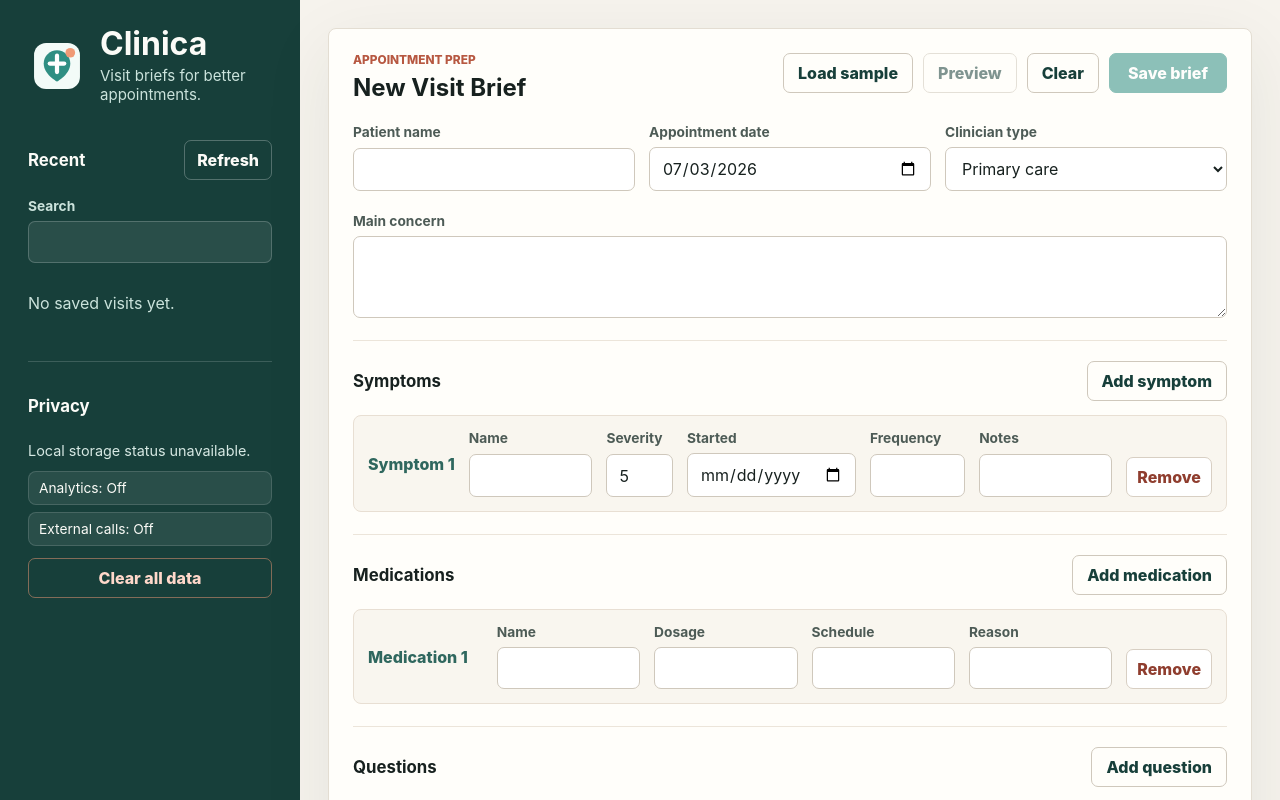
Clinica app › previews a sample visit without saving it
Click the button "Load sample".
click(848, 73)  # box [783,53,913,93]
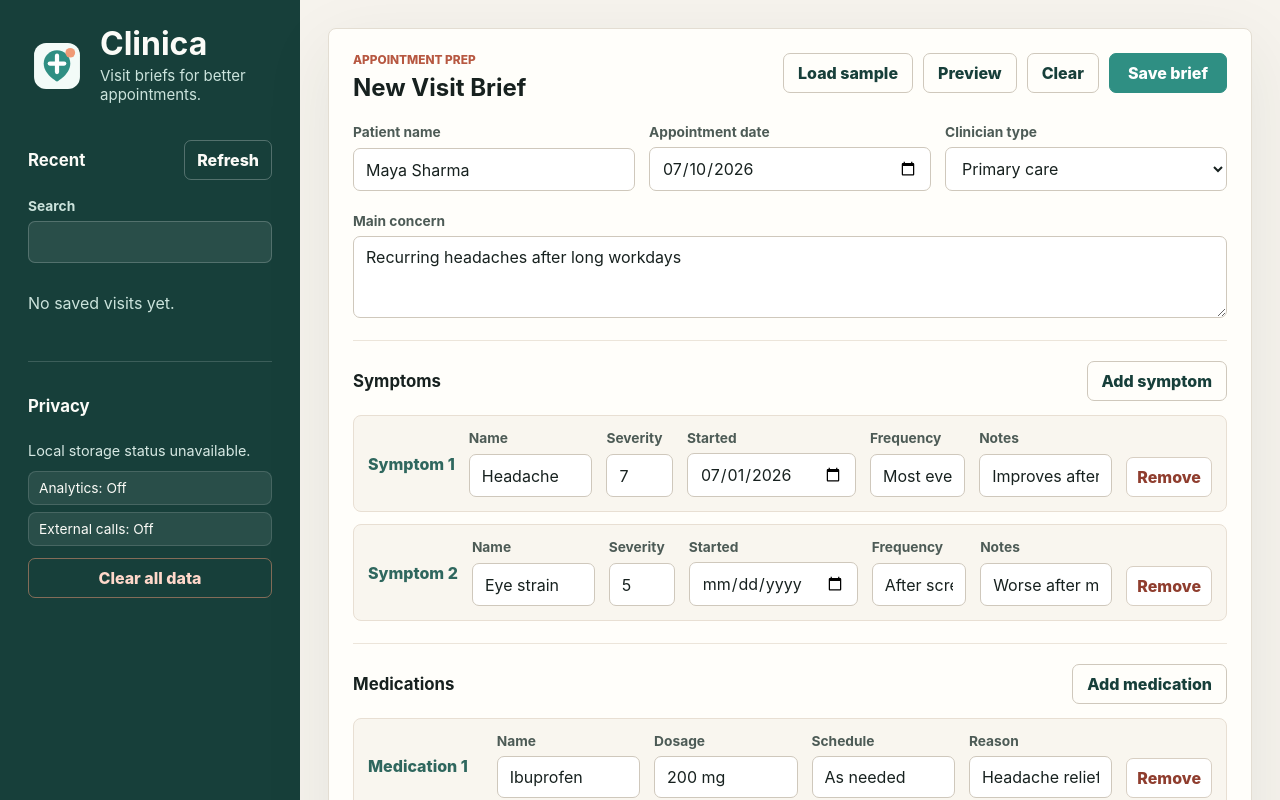
Click the button "Preview".
click(970, 73)  # box [923,53,1017,93]
(page scrolled)
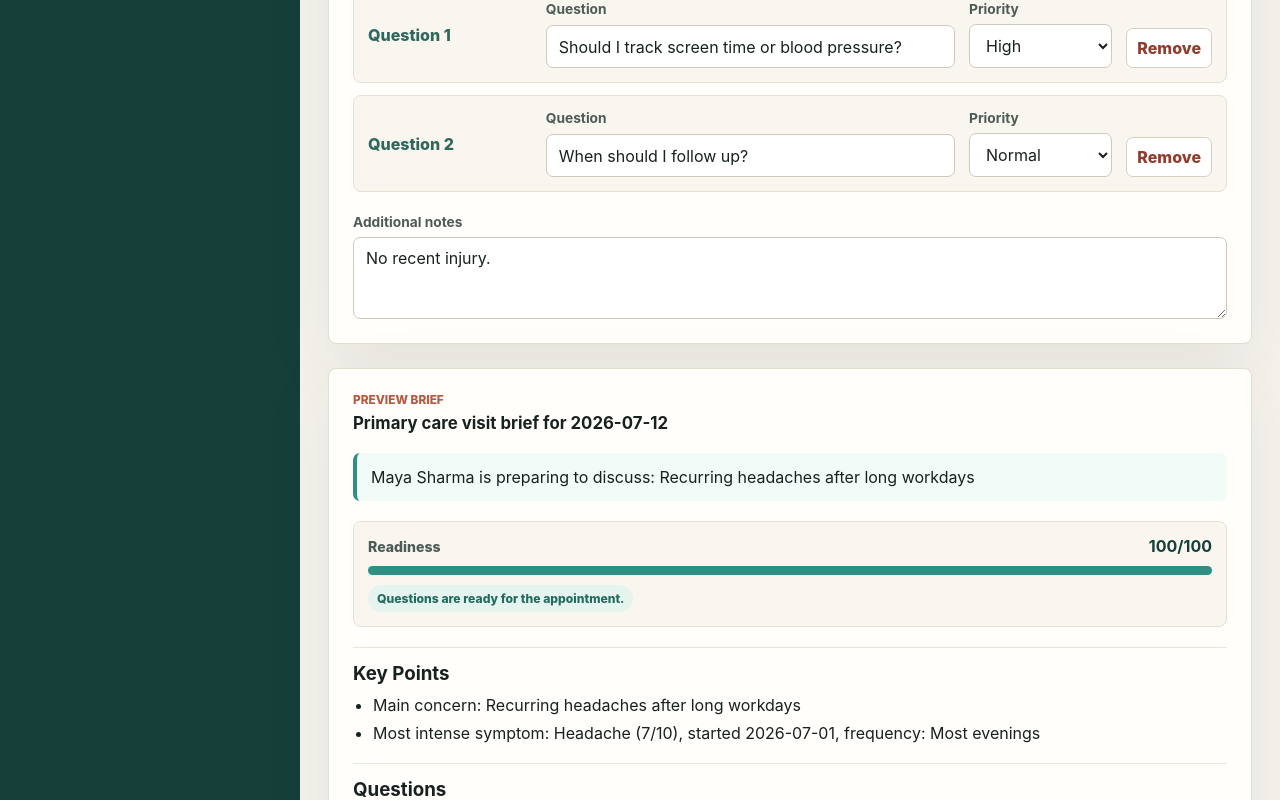
Now the text "Preview Brief" is shown, box [353,393,444,407]
